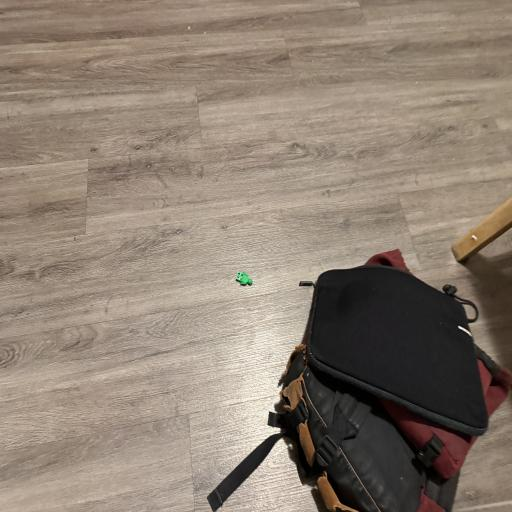Minifig: (236, 272, 252, 285)
